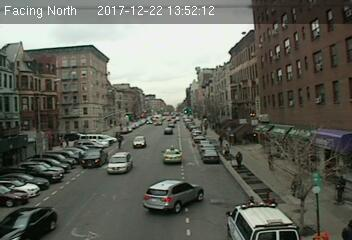car: (143, 180, 205, 213), (107, 152, 135, 174), (81, 150, 109, 168), (162, 146, 182, 164), (132, 135, 147, 149), (203, 149, 219, 162)
pedestrian: (233, 150, 243, 170)
police: (223, 197, 304, 240)
